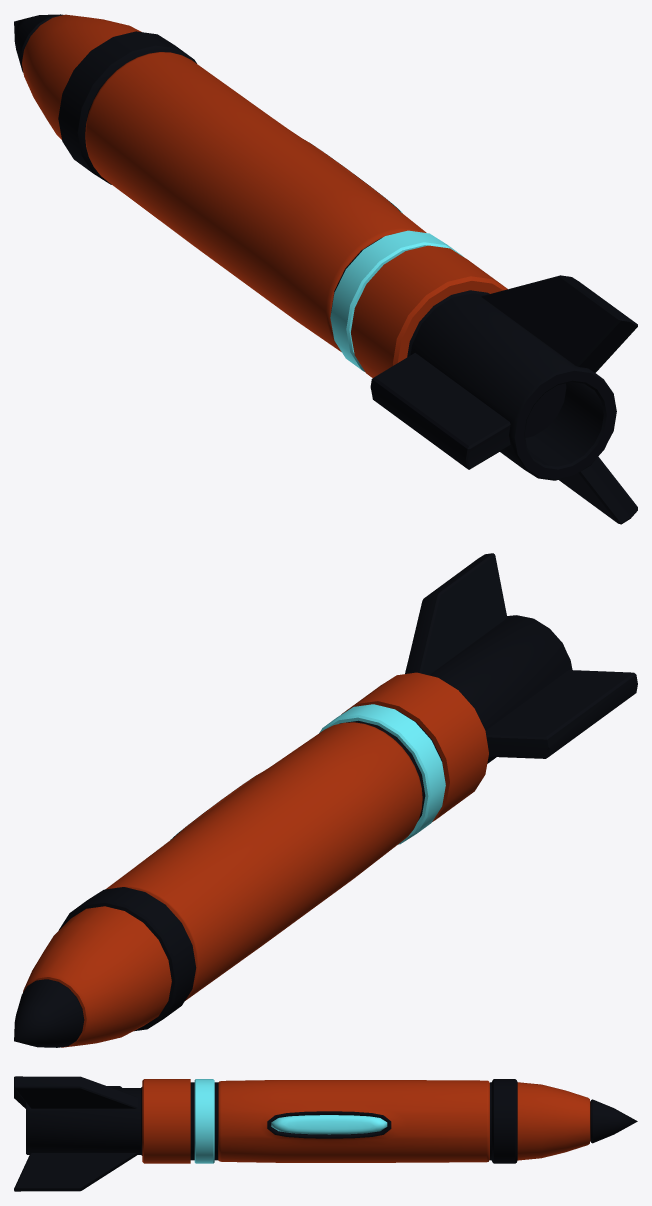
Rendered from RPGA01.fbx.
3 renders of one model, top to bottom at view 1: azimuth 30°, elevation 25°; view 2: azimuth 150°, elevation 25°; view 3: azimuth 270°, elevation 25°, orthographic. The views are drawn at different scales.
Parts seen in each view (by area): view 1: Cylinder057, Rocket01; view 2: Cylinder057, Rocket01; view 3: Cylinder057, Rocket01.
Boxes of the visible parts, <box> form: Cylinder057: <box>14,14,637,524</box>; Rocket01: <box>85,52,426,351</box>; Cylinder057: <box>14,553,637,1047</box>; Rocket01: <box>106,722,422,1000</box>; Cylinder057: <box>14,1076,637,1191</box>; Rocket01: <box>218,1080,489,1162</box>.
Size of the model in its own units: 53.4 by 58.59 by 290.
